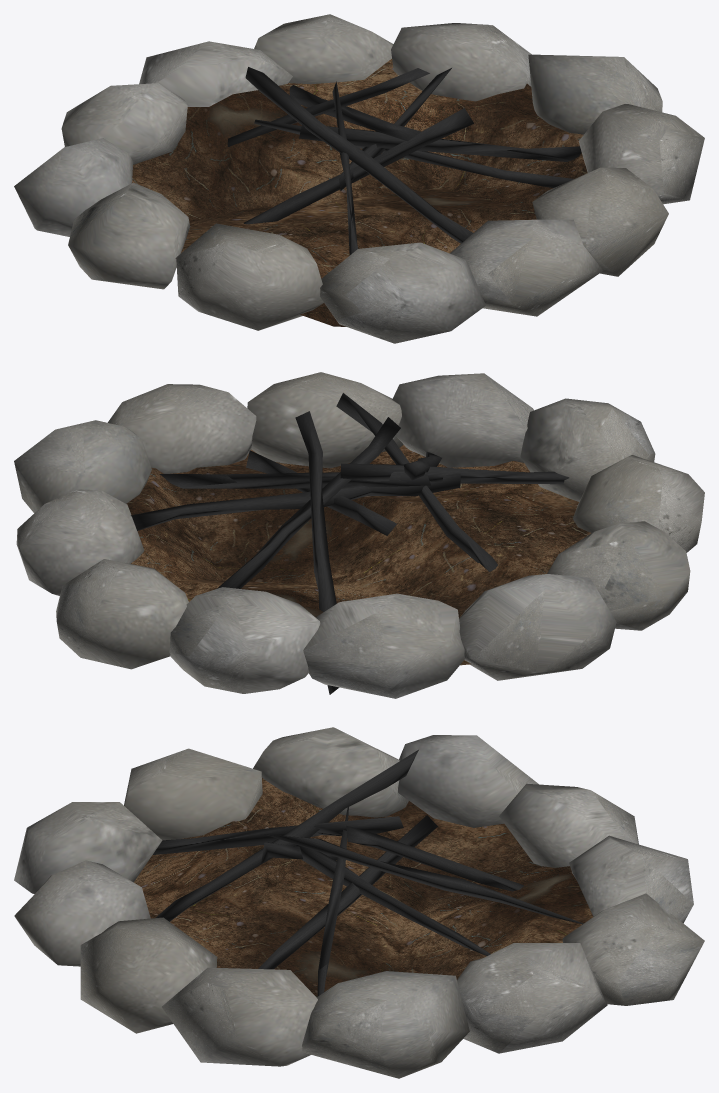
The model's file is Sketchfab_2022_11_30_15_59_45.fbx.
3 renders of one model, top to bottom at view 1: azimuth 30°, elevation 25°; view 2: azimuth 150°, elevation 25°; view 3: azimuth 270°, elevation 25°, orthographic. The views are drawn at different scales.
Parts seen in each view (by area): view 1: Cylinder.007; view 2: Cylinder.007; view 3: Cylinder.007.
Part boxes in pixels (<box>): Cylinder.007: <box>14,14,704,343</box>; Cylinder.007: <box>14,372,704,698</box>; Cylinder.007: <box>14,727,704,1078</box>.
Bounding box in the file's own units: 881 × 232 × 843.
